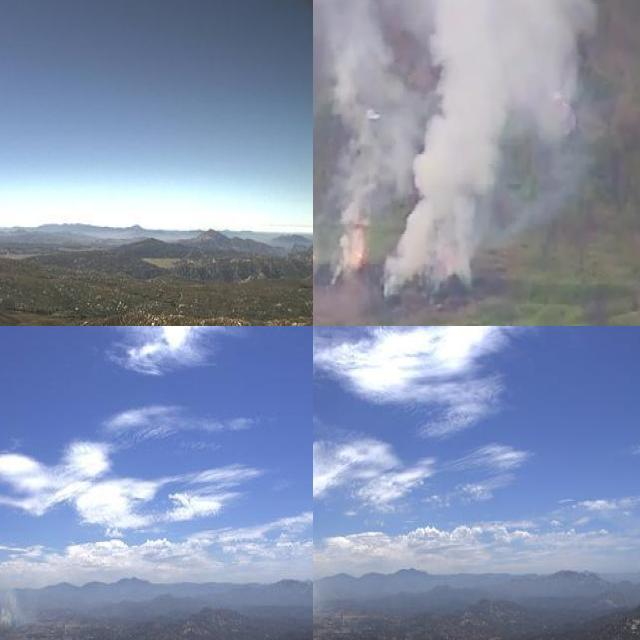smoke: (313, 0, 640, 294), (0, 574, 38, 636)
